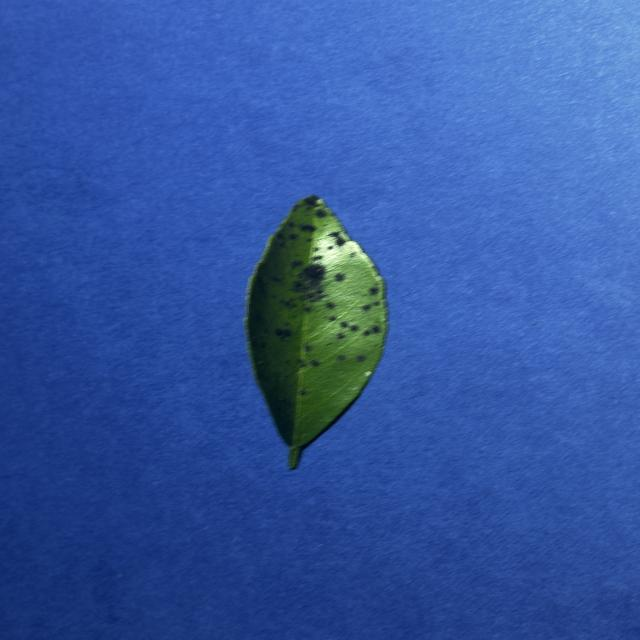sooty_mold: (245, 196, 387, 468)
